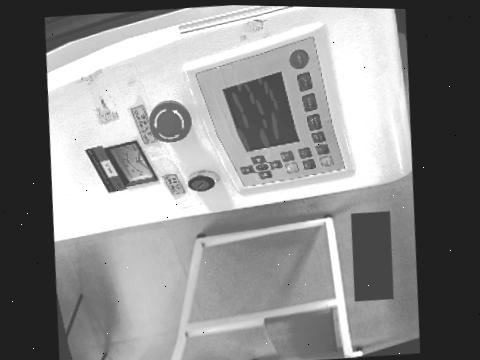Amp_Meter: (103, 140, 157, 186)
Display: (223, 71, 299, 150)
Down_button: (269, 159, 282, 168)
Emergency_Stop: (149, 99, 191, 141)
Enter_button: (285, 162, 298, 172)
Esc_button: (280, 150, 294, 161)
File_button: (315, 143, 329, 154)
Frame_button: (302, 158, 315, 169)
Left_button: (251, 155, 265, 163)
Max-Power_button: (311, 130, 325, 142)
Min-Power_button: (306, 113, 321, 130)
Origin_button: (297, 146, 311, 157)
Power_switch: (187, 170, 218, 190)
Pulse_button: (297, 71, 312, 90)
Reset_button: (289, 49, 308, 68)
Right_button: (258, 170, 272, 178)
Speed_button: (301, 92, 317, 111)
Start-Pause_button: (319, 155, 333, 166)
Up_button: (239, 165, 254, 173)
Z_U_button: (255, 163, 268, 170)
